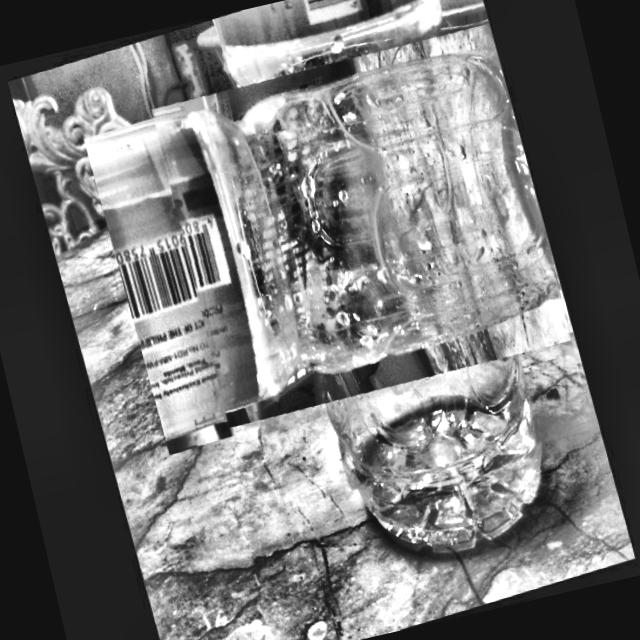Plastic-Bottle: (122, 0, 603, 532)
